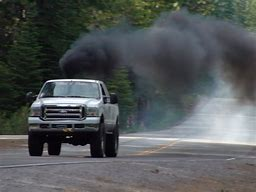smoke: (60, 9, 256, 77)
